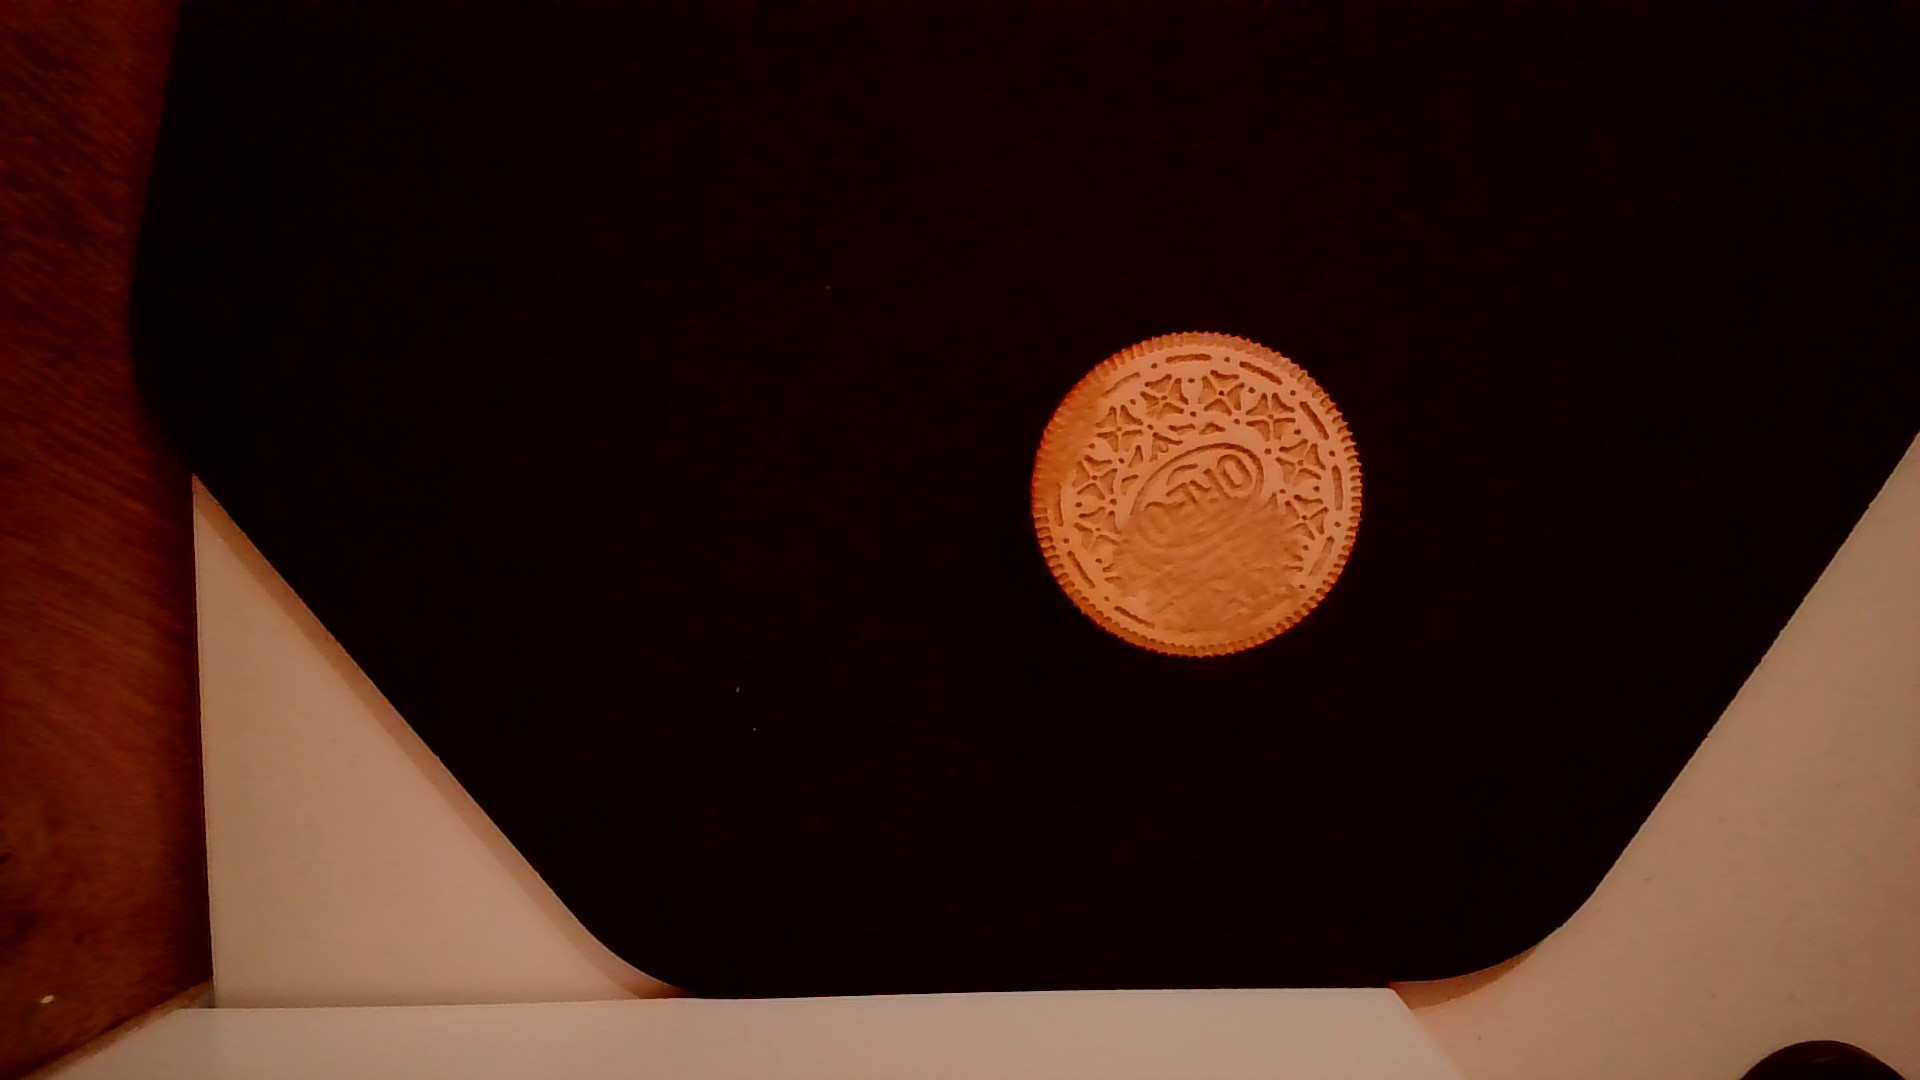Effacé: (1112, 489, 1305, 659), (1027, 376, 1098, 517)
Oréo: (1025, 323, 1369, 661)
